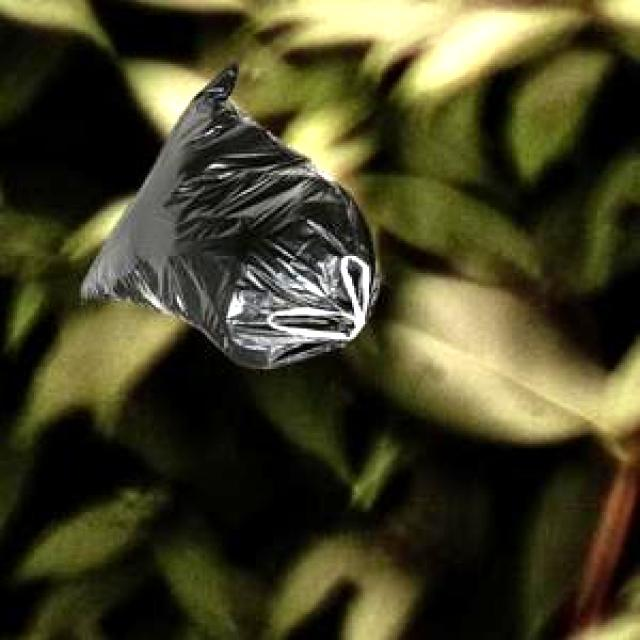Garbage_Bag: (78, 59, 376, 366)
